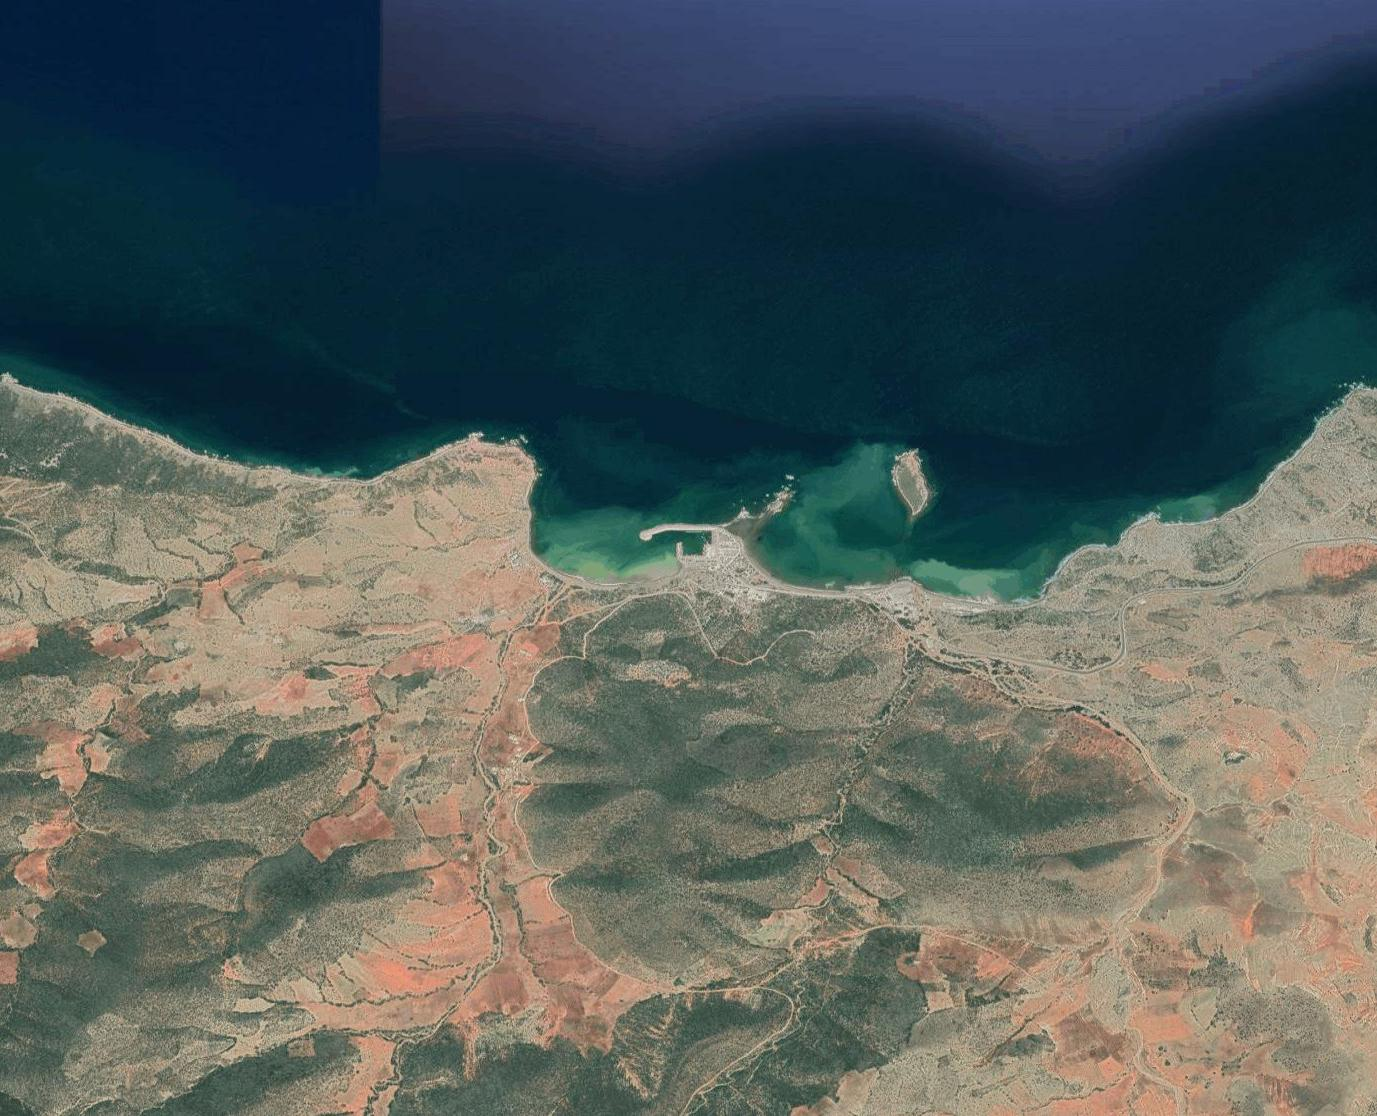harbor: (634, 504, 738, 574)
